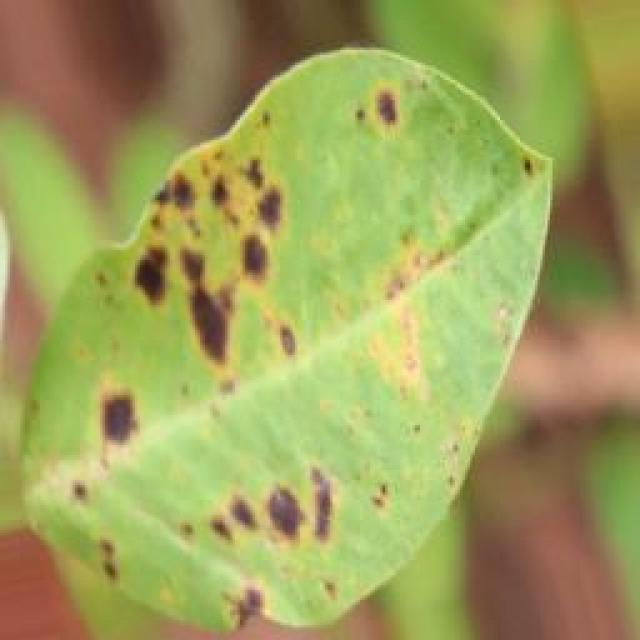Yellowish: (0, 10, 570, 640)
